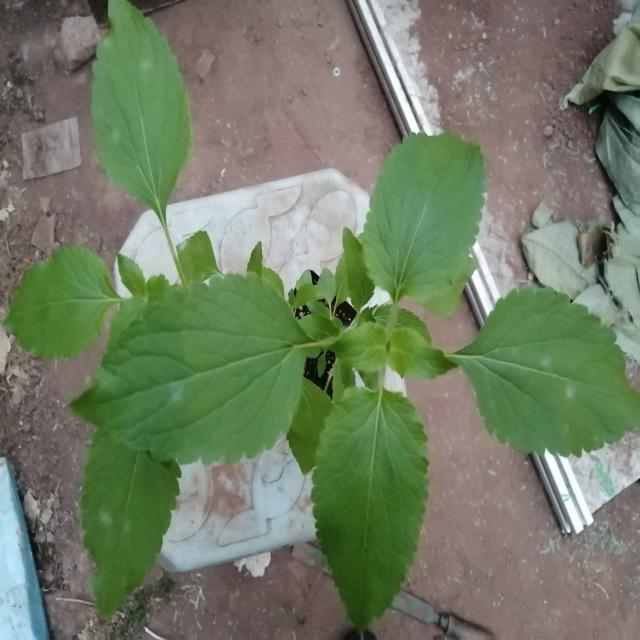billygoat_weed: (188, 137, 612, 575), (38, 0, 245, 623)
